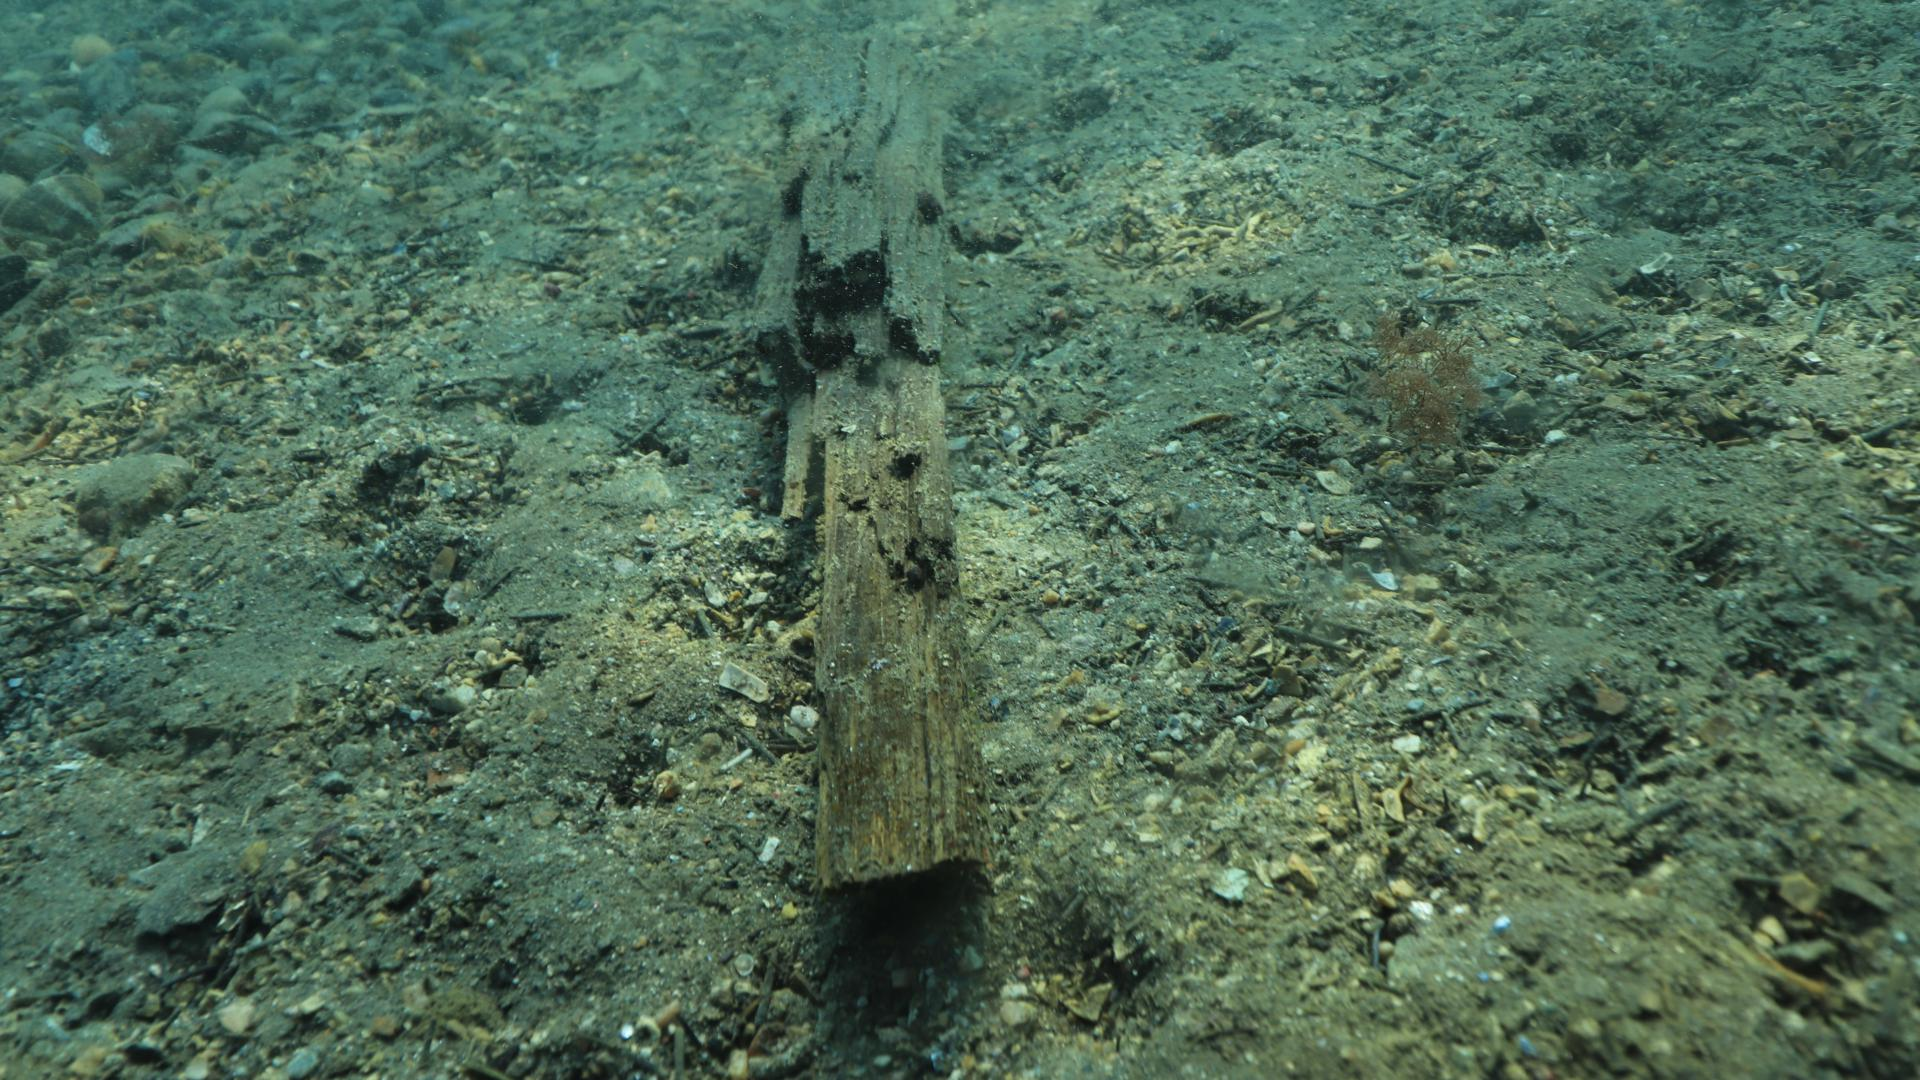wood: (744, 34, 1000, 899)
